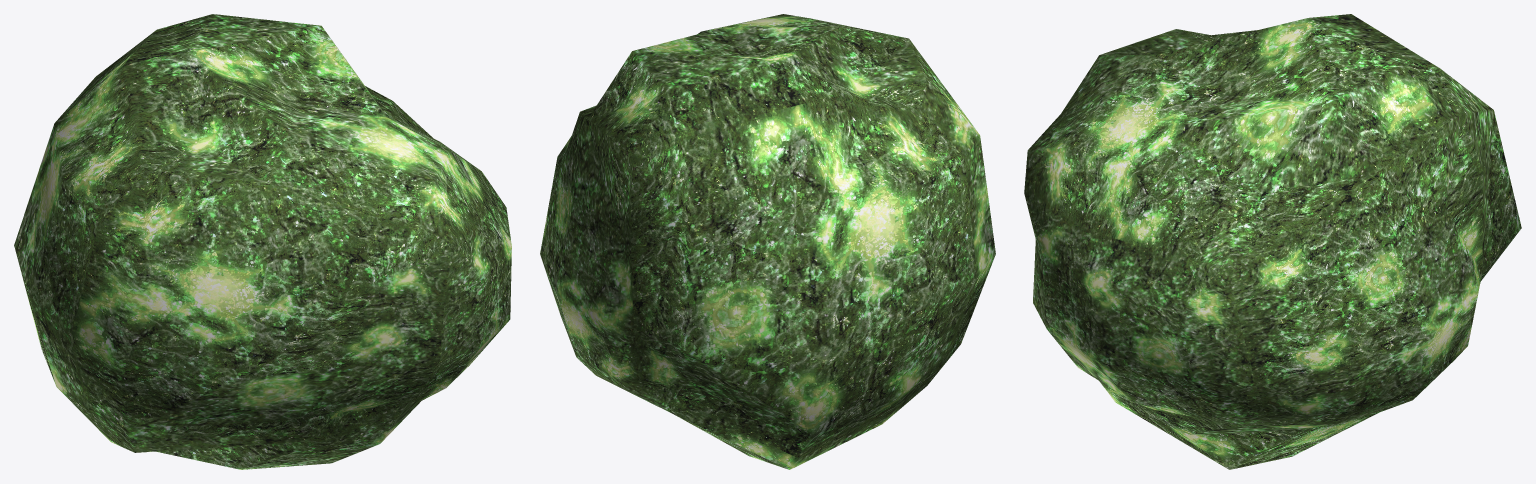
File: asteroid_acid_radial_s01_l0.fbx
3 views of the same model, side by side, from view 1: azimuth 30°, elevation 25°; view 2: azimuth 150°, elevation 25°; view 3: azimuth 270°, elevation 25° (orthographic). The views are drawn at different scales.
Visible parts, largest first — view 1: mesh_node; view 2: mesh_node; view 3: mesh_node.
Part boxes in pixels (x1,y1,x2,y2): mesh_node: [14, 14, 511, 469]; mesh_node: [540, 14, 995, 469]; mesh_node: [1024, 14, 1521, 469].
Bounding box in the file's own units: 5.25 × 5.06 × 5.47.
